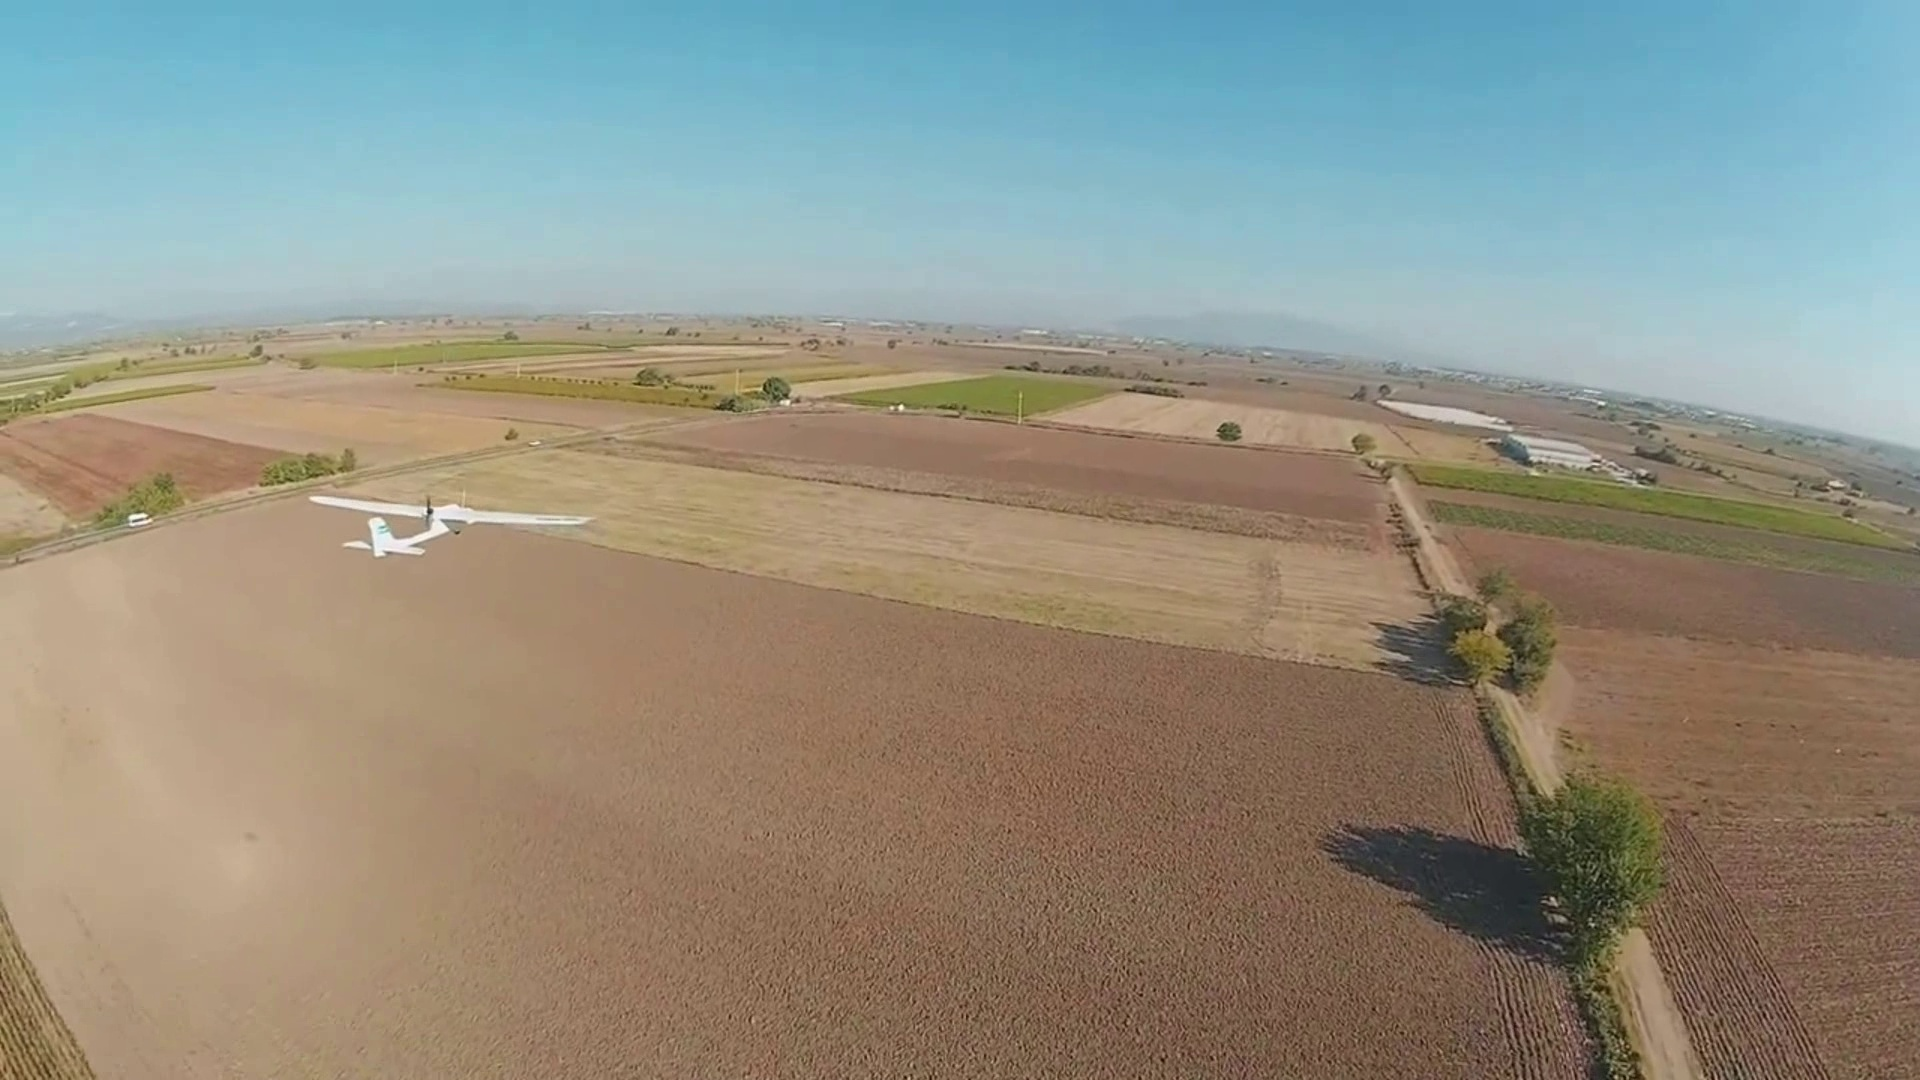airplane: (338, 500, 470, 558)
